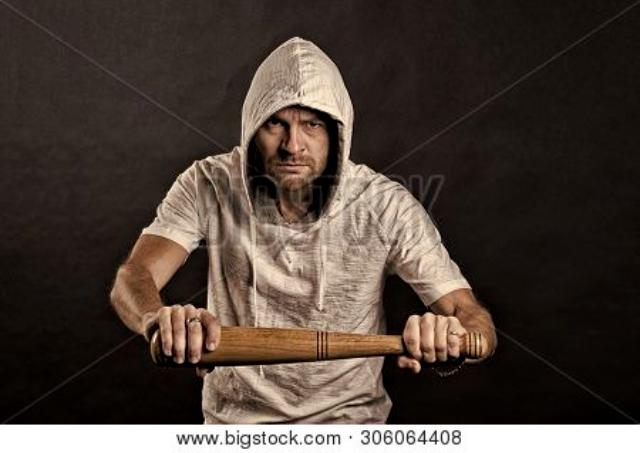baseball bat: (144, 323, 490, 373)
